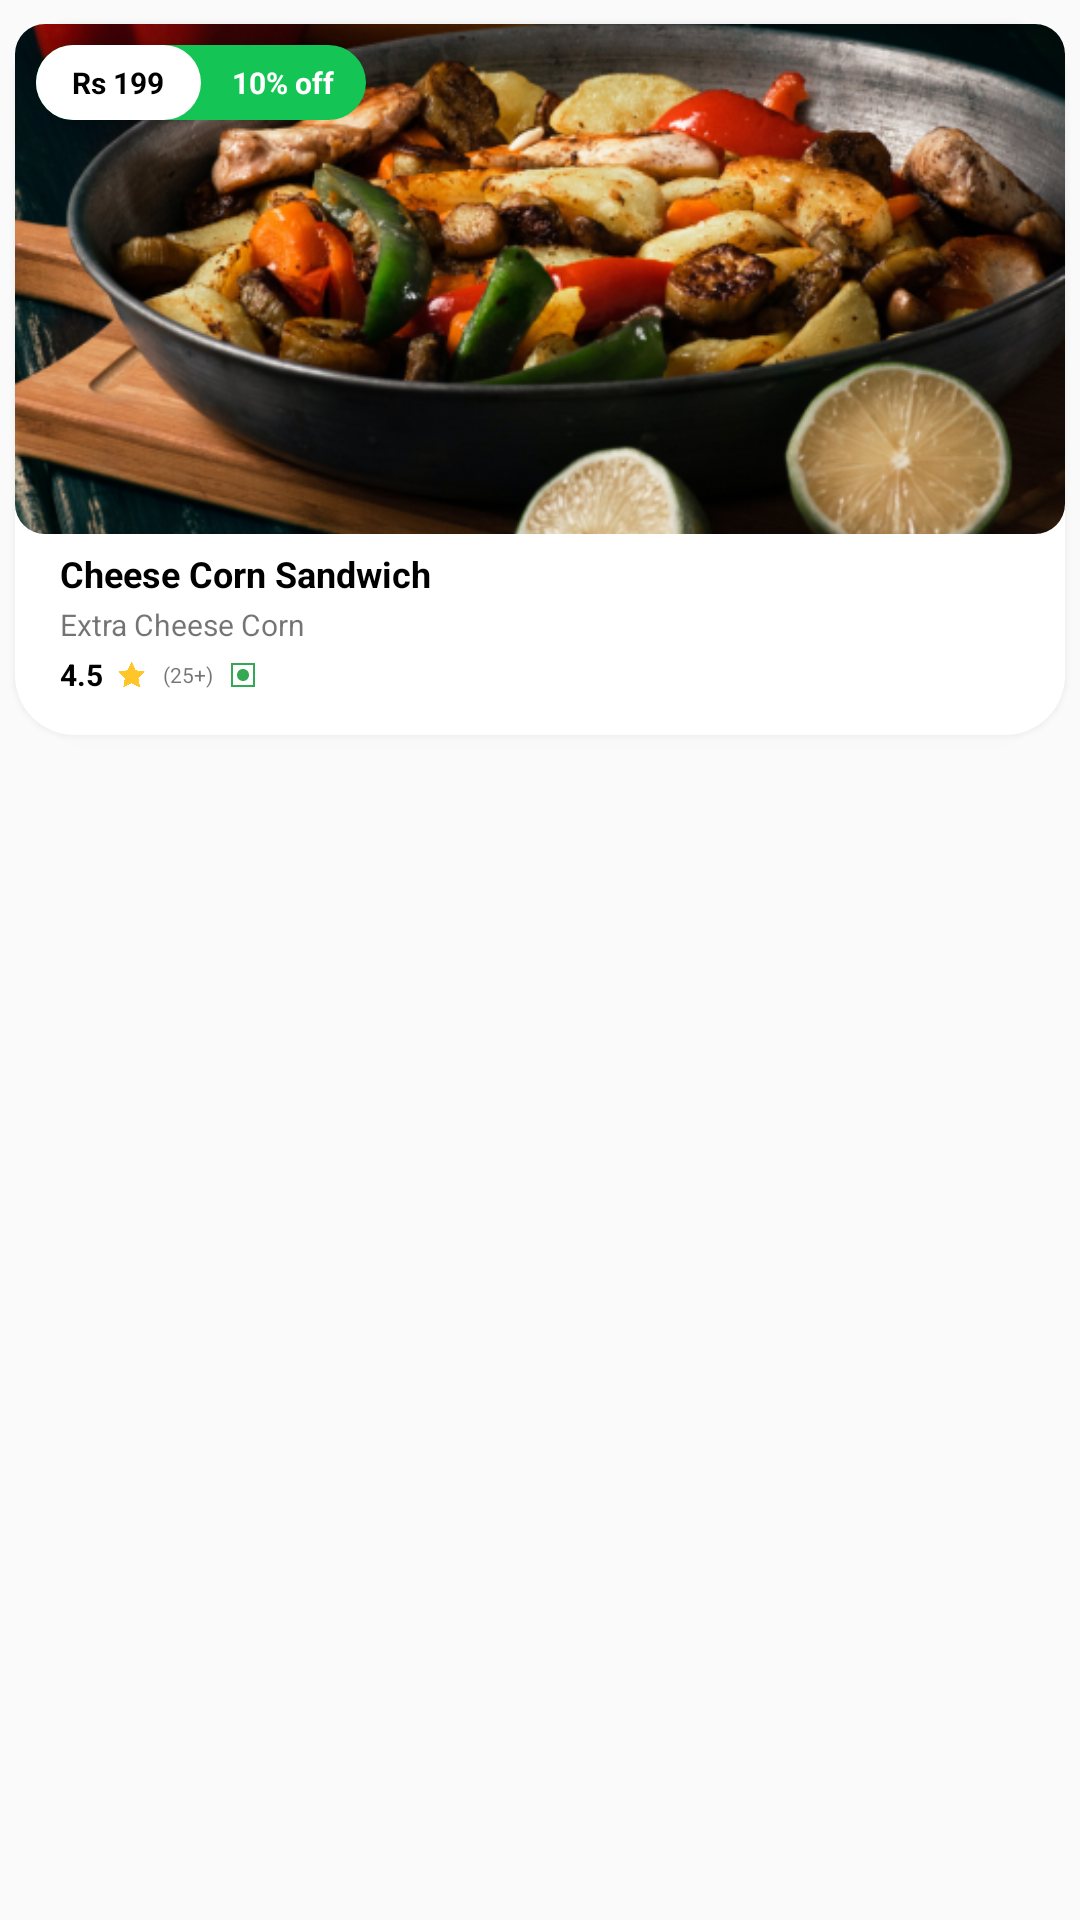

Screen size 1080px×1920px. Icon name, then its box in pixels as box(x1, y1, x2, y2):
star: box(119, 662, 145, 687)
veg: box(231, 663, 255, 687)
